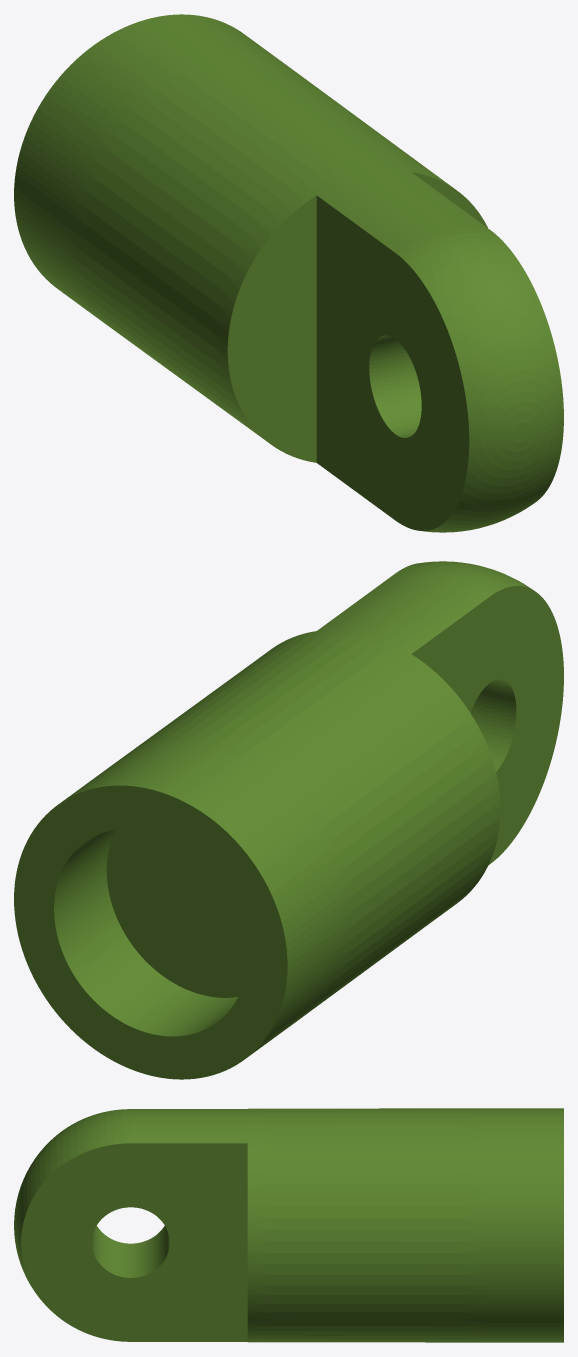
The picture shows the model from 3 angles, top to bottom: view 1: azimuth 30°, elevation 25°; view 2: azimuth 150°, elevation 25°; view 3: azimuth 270°, elevation 25°; orthographic projection. The views are drawn at different scales.
Parts seen in each view (by area): view 1: node; view 2: node; view 3: node.
Part boxes in pixels (<box>): node: <box>14,14,563,532</box>; node: <box>14,561,563,1079</box>; node: <box>14,1108,563,1342</box>.
Bounding box in the file's own units: 0.0738 × 0.0737 × 0.1731.
